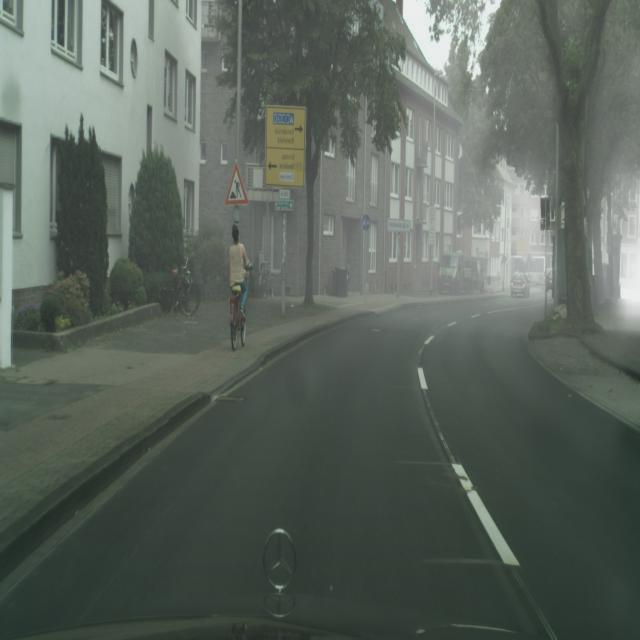bicycle: (438, 250, 485, 296)
bus: (510, 271, 530, 298)
car: (230, 223, 254, 350), (160, 257, 200, 318)
